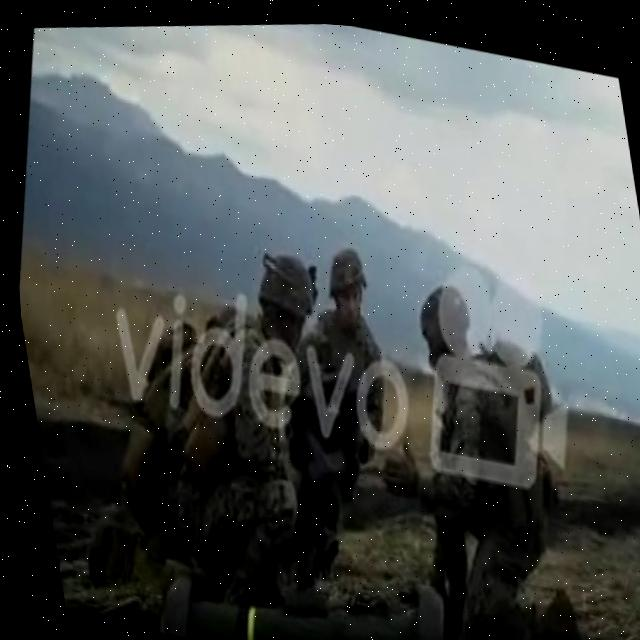rocket: (136, 505, 445, 640)
